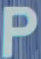Parking: (1, 5, 40, 56)
